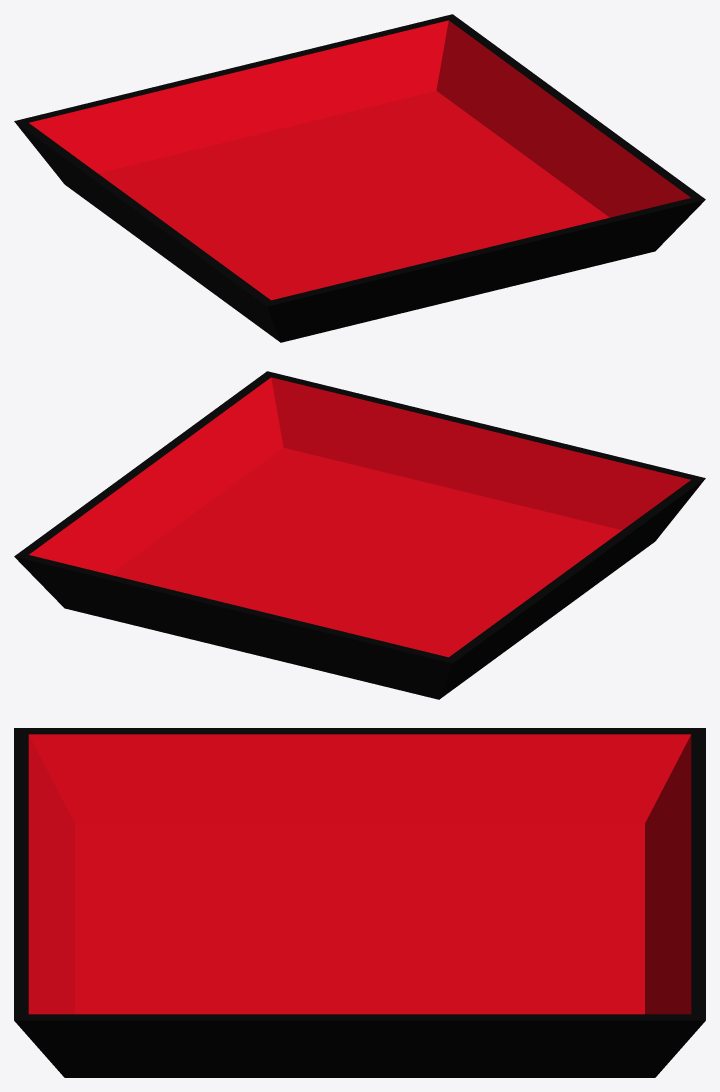
Rendered from Dice_Tray_1.fbx.
3 renders of one model, top to bottom at view 1: azimuth 30°, elevation 25°; view 2: azimuth 150°, elevation 25°; view 3: azimuth 270°, elevation 25°, orthographic. The views are drawn at different scales.
Visible parts, largest first — view 1: Dice_Tray; view 2: Dice_Tray; view 3: Dice_Tray.
Part boxes in pixels (box(x1,y1,x2,y2)): Dice_Tray: box(14, 14, 705, 342); Dice_Tray: box(14, 371, 705, 699); Dice_Tray: box(14, 728, 705, 1077).
Size of the model in its own units: 234 by 29.41 by 234.
